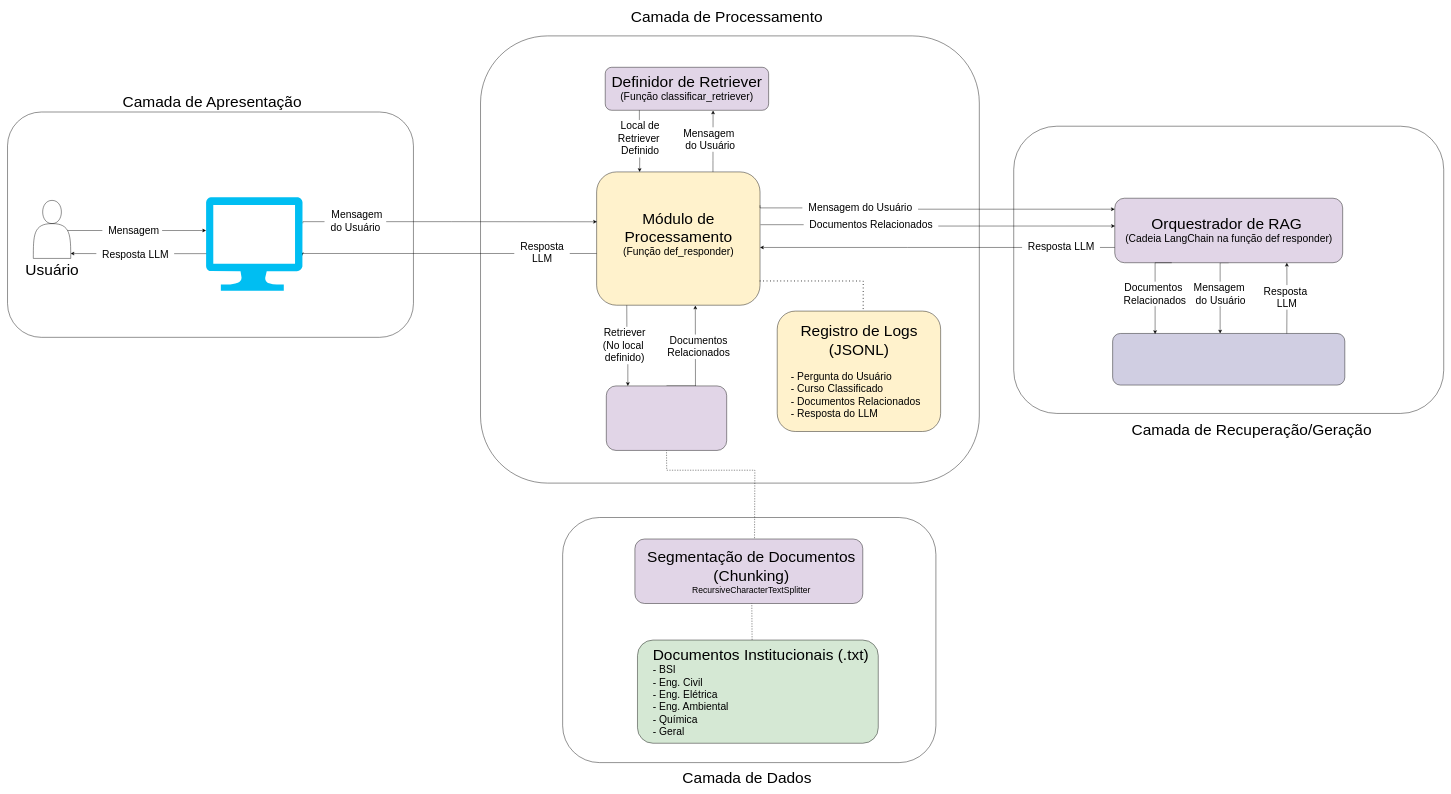
Some shapes in this 1451 by 794 pixel diagram are drawn without their labels. Here are the shapes that lost their labels. From the top down, the centre of each, then its label:
At (254,243): "Interface Gradio".
At (1228,359): "OpenAI API (LLM)".
At (666,417): "BD Vetorial (FAISS por curso)".
